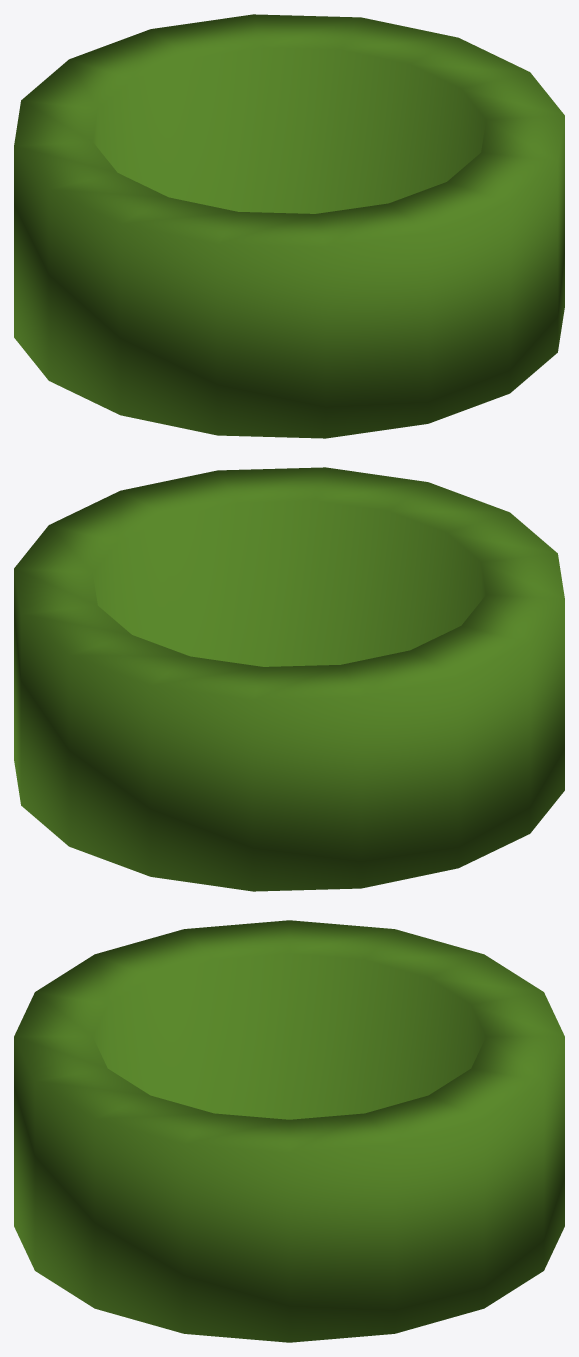
File: pipeEnd.dae
The picture shows the model from 3 angles, top to bottom: view 1: azimuth 30°, elevation 25°; view 2: azimuth 150°, elevation 25°; view 3: azimuth 270°, elevation 25°; orthographic projection.
Parts seen in each view (by area): view 1: Circle; view 2: Circle; view 3: Circle.
Part boxes in pixels (<box>): Circle: <box>14,14,564,438</box>; Circle: <box>14,467,564,891</box>; Circle: <box>14,920,564,1342</box>.
Bounding box in the file's own units: 2 × 2 × 0.7596.
